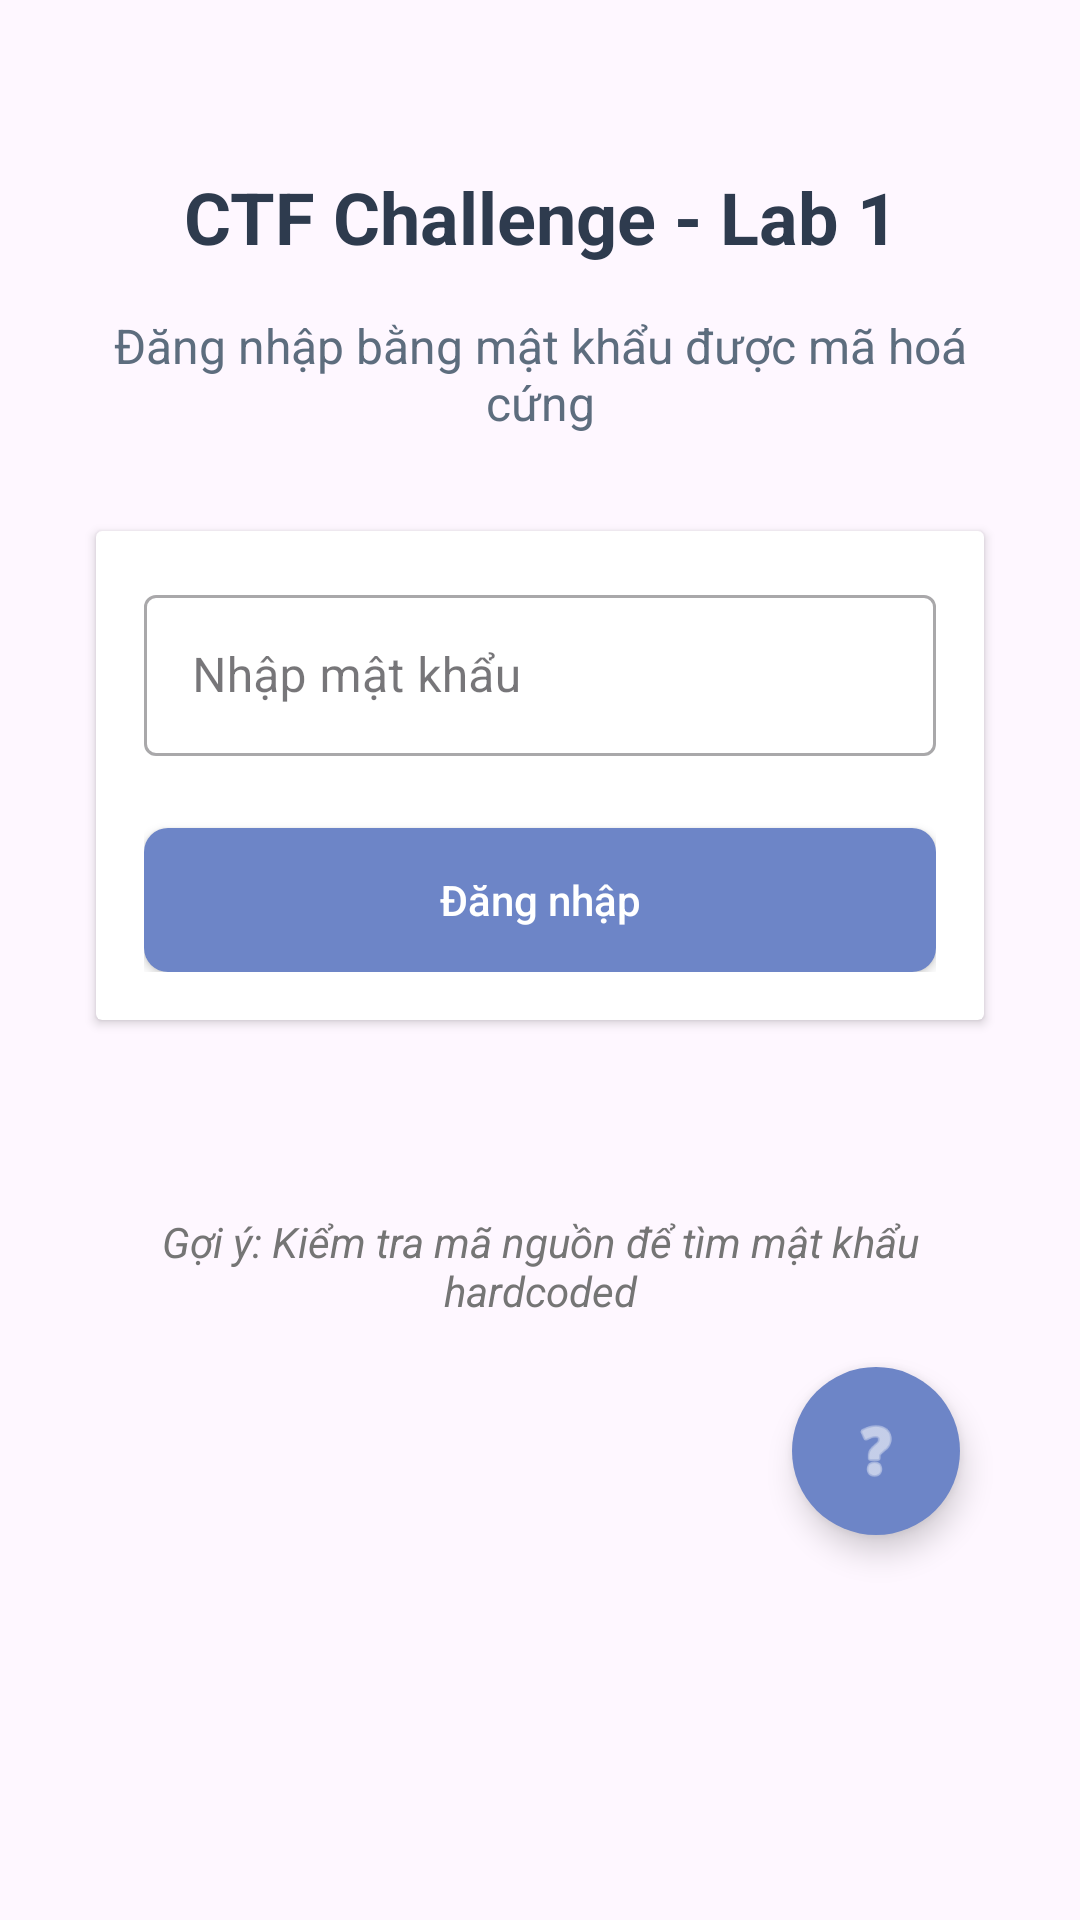

Icon bounding boxes for this 1080×1920 phone screenshot, format (x1, y1, x2, y2):
Help: (792, 1367, 960, 1535)
